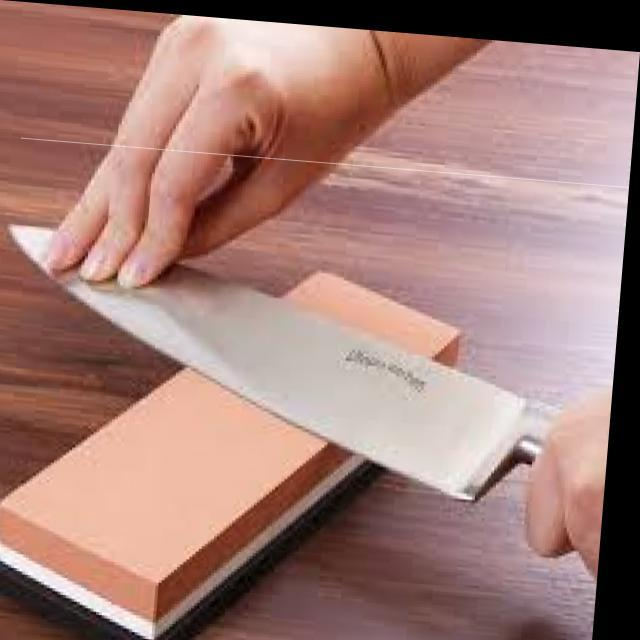knife: (4, 220, 563, 508)
